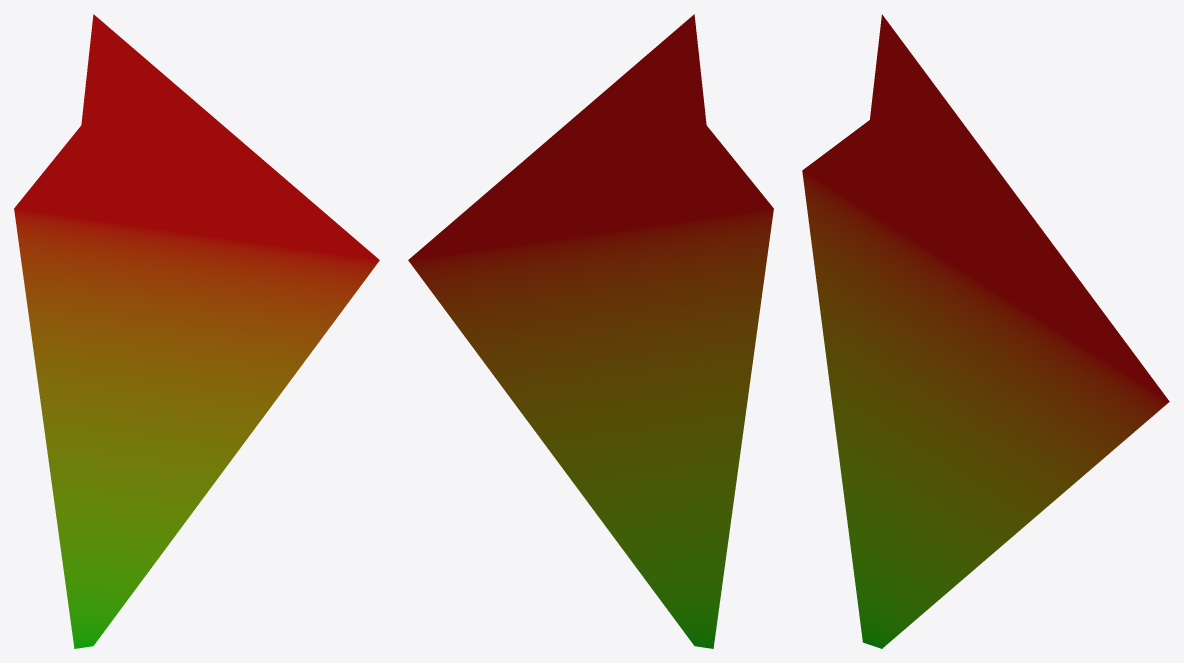
The model's file is Sea Wheatgrass_LOD3_Var18_ui2oagjia.fbx.
3 views of the same model, side by side, from view 1: azimuth 30°, elevation 25°; view 2: azimuth 150°, elevation 25°; view 3: azimuth 330°, elevation 25° (orthographic).
Visible parts, largest first — view 1: _mimw_Var18_LOD3; view 2: _mimw_Var18_LOD3; view 3: _mimw_Var18_LOD3.
Boxes of the visible parts, box(x1,y1,x2,y2) form: _mimw_Var18_LOD3: box(14, 14, 379, 648); _mimw_Var18_LOD3: box(408, 14, 773, 648); _mimw_Var18_LOD3: box(802, 14, 1169, 648).
Size of the model in its own units: 21.75 by 35.9 by 1.57e-06.
